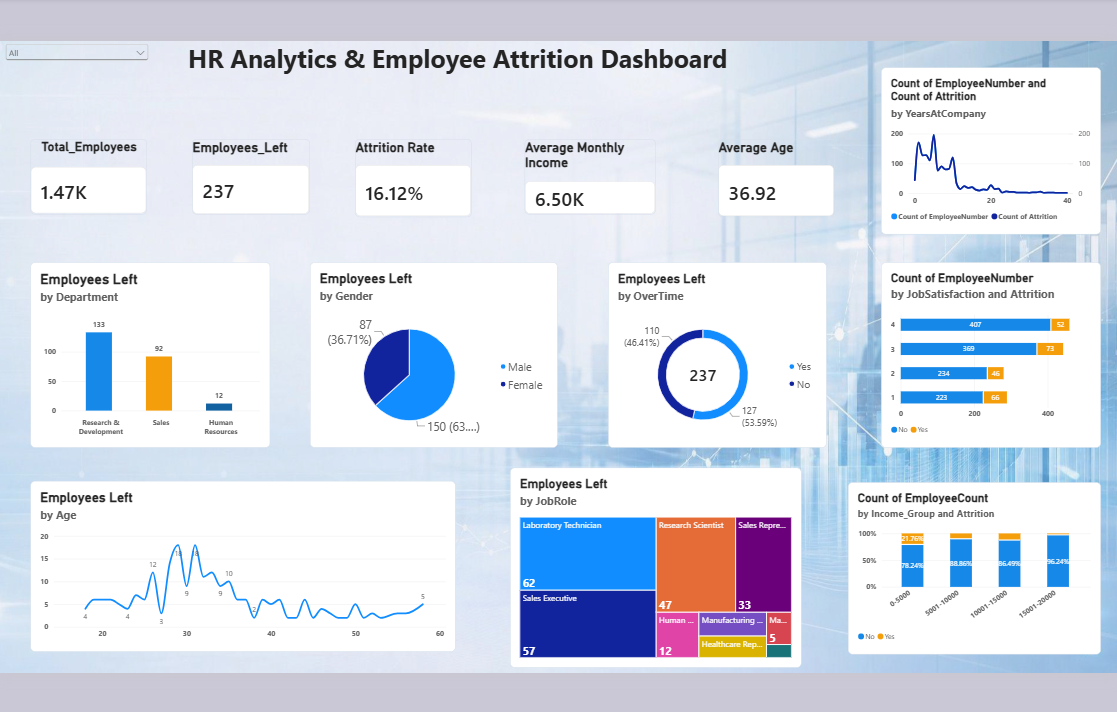

The dashboard page shown, as its layout file describes it:
{"tool":"powerbi","page":{"name":"Page 1","canvas":[1920,1080],"ordinal":0},"visuals":[{"type":"cardVisual","title":"Total_Employees","fields":{"Data":["HR_Analytics_Cleaned xlsx.Total_Employees"]},"box":[58.9,167.6,199.3,129.1],"z":0},{"type":"cardVisual","title":"Employees_Left","fields":{"Data":["HR_Analytics_Cleaned xlsx.Employees Left"]},"box":[335.3,167.6,201.6,129.1],"z":1},{"type":"cardVisual","title":"Attrition Rate","fields":{"Data":["HR_Analytics_Cleaned xlsx.Attrition Rate"]},"box":[613.9,167.6,199.3,133.7],"z":2},{"type":"cardVisual","title":"Average Monthly Income","fields":{"Data":["HR_Analytics_Cleaned xlsx.Average Monthly Income"]},"box":[903.8,167.6,224.3,129.1],"z":3},{"type":"cardVisual","title":"Average Age","fields":{"Data":["HR_Analytics_Cleaned xlsx.Average Age"]},"box":[1234.6,167.6,199.3,133.7],"z":4},{"type":"clusteredColumnChart","fields":{"Category":["HR_Analytics_Cleaned xlsx.Department"],"Y":["HR_Analytics_Cleaned xlsx.Employees Left"]},"box":[58.9,378.3,410,317.1],"z":5},{"type":"pieChart","fields":{"Category":["HR_Analytics_Cleaned xlsx.Gender"],"Y":["HR_Analytics_Cleaned xlsx.Employees Left"]},"box":[536.9,378.3,423.6,317.1],"z":6},{"type":"lineChart","fields":{"Category":["HR_Analytics_Cleaned xlsx.Age"],"Y":["HR_Analytics_Cleaned xlsx.Employees Left"]},"box":[58.9,752.1,727.2,292.2],"z":7},{"type":"donutChart","fields":{"Category":["HR_Analytics_Cleaned xlsx.OverTime"],"Y":["HR_Analytics_Cleaned xlsx.Employees Left"]},"box":[1046.6,378.3,373.8,317.1],"z":8},{"type":"treemap","fields":{"Group":["HR_Analytics_Cleaned xlsx.JobRole"],"Values":["HR_Analytics_Cleaned xlsx.Employees Left"]},"box":[878.9,729.4,498.4,342.1],"z":9},{"type":"barChart","fields":{"Category":["HR_Analytics_Cleaned xlsx.JobSatisfaction"],"Series":["HR_Analytics_Cleaned xlsx.Attrition"],"Y":["CountNonNull(HR_Analytics_Cleaned xlsx.EmployeeNumber)"]},"box":[1513.2,378.3,376,317.1],"z":10},{"type":"hundredPercentStackedColumnChart","fields":{"Category":["HR_Analytics_Cleaned xlsx.Income_Group"],"Series":["HR_Analytics_Cleaned xlsx.Attrition"],"Y":["CountNonNull(HR_Analytics_Cleaned xlsx.EmployeeCount)"]},"box":[1456.6,754.3,432.7,294.5],"z":11},{"type":"lineChart","fields":{"Category":["HR_Analytics_Cleaned xlsx.YearsAtCompany"],"Y":["CountNonNull(HR_Analytics_Cleaned xlsx.EmployeeNumber)"],"Y2":["CountNonNull(HR_Analytics_Cleaned xlsx.Attrition)"]},"box":[1513.2,45.3,376,285.4],"z":12},{"type":"textbox","box":[65.7,0,1447.5,129.1],"z":13},{"type":"slicer","fields":{"Values":["HR_Analytics_Cleaned xlsx.Gender","HR_Analytics_Cleaned xlsx.JobRole","HR_Analytics_Cleaned xlsx.Department"]},"box":[11.3,0,253.7,90.6],"z":14}]}

Visuals, with their boxes on the page's 1920x1080 design canvas (x1, y1, x2, y2). These are canvas units, not pixel positions in the 1117x712 screenshot, which may show the page scaled, cropped or inside an application window:
"Total_Employees" cardVisual: box(59, 168, 258, 297)
"Employees_Left" cardVisual: box(335, 168, 537, 297)
"Attrition Rate" cardVisual: box(614, 168, 813, 301)
"Average Monthly Income" cardVisual: box(904, 168, 1128, 297)
"Average Age" cardVisual: box(1235, 168, 1434, 301)
clusteredColumnChart - HR_Analytics_Cleaned xlsx.Department x HR_Analytics_Cleaned xlsx.Employees Left: box(59, 378, 469, 695)
pieChart - HR_Analytics_Cleaned xlsx.Gender x HR_Analytics_Cleaned xlsx.Employees Left: box(537, 378, 960, 695)
lineChart - HR_Analytics_Cleaned xlsx.Age x HR_Analytics_Cleaned xlsx.Employees Left: box(59, 752, 786, 1044)
donutChart - HR_Analytics_Cleaned xlsx.OverTime x HR_Analytics_Cleaned xlsx.Employees Left: box(1047, 378, 1420, 695)
treemap - HR_Analytics_Cleaned xlsx.JobRole x HR_Analytics_Cleaned xlsx.Employees Left: box(879, 729, 1377, 1072)
barChart - HR_Analytics_Cleaned xlsx.JobSatisfaction x HR_Analytics_Cleaned xlsx.Attrition: box(1513, 378, 1889, 695)
hundredPercentStackedColumnChart - HR_Analytics_Cleaned xlsx.Income_Group x HR_Analytics_Cleaned xlsx.Attrition: box(1457, 754, 1889, 1049)
lineChart - HR_Analytics_Cleaned xlsx.YearsAtCompany x CountNonNull(HR_Analytics_Cleaned xlsx.EmployeeNumber): box(1513, 45, 1889, 331)
textbox: box(66, 0, 1513, 129)
slicer - HR_Analytics_Cleaned xlsx.Gender x HR_Analytics_Cleaned xlsx.JobRole: box(11, 0, 265, 91)
